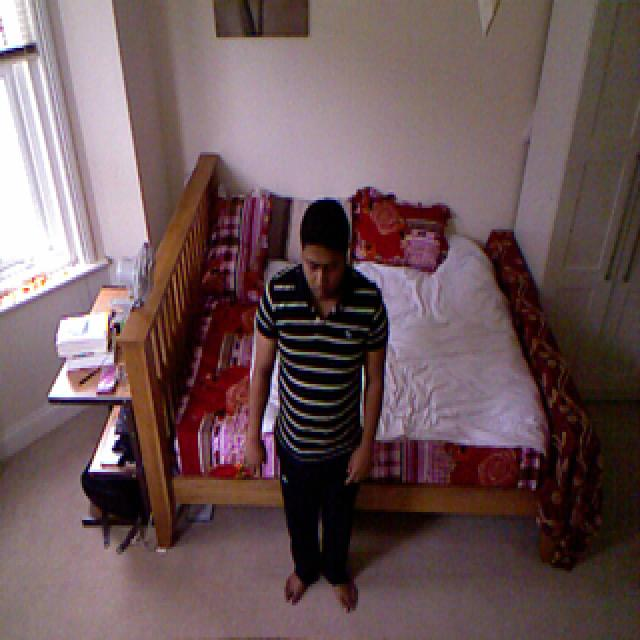standing: (253, 190, 390, 609)
